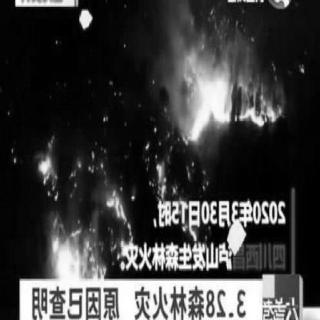Fire: (173, 63, 286, 165)
